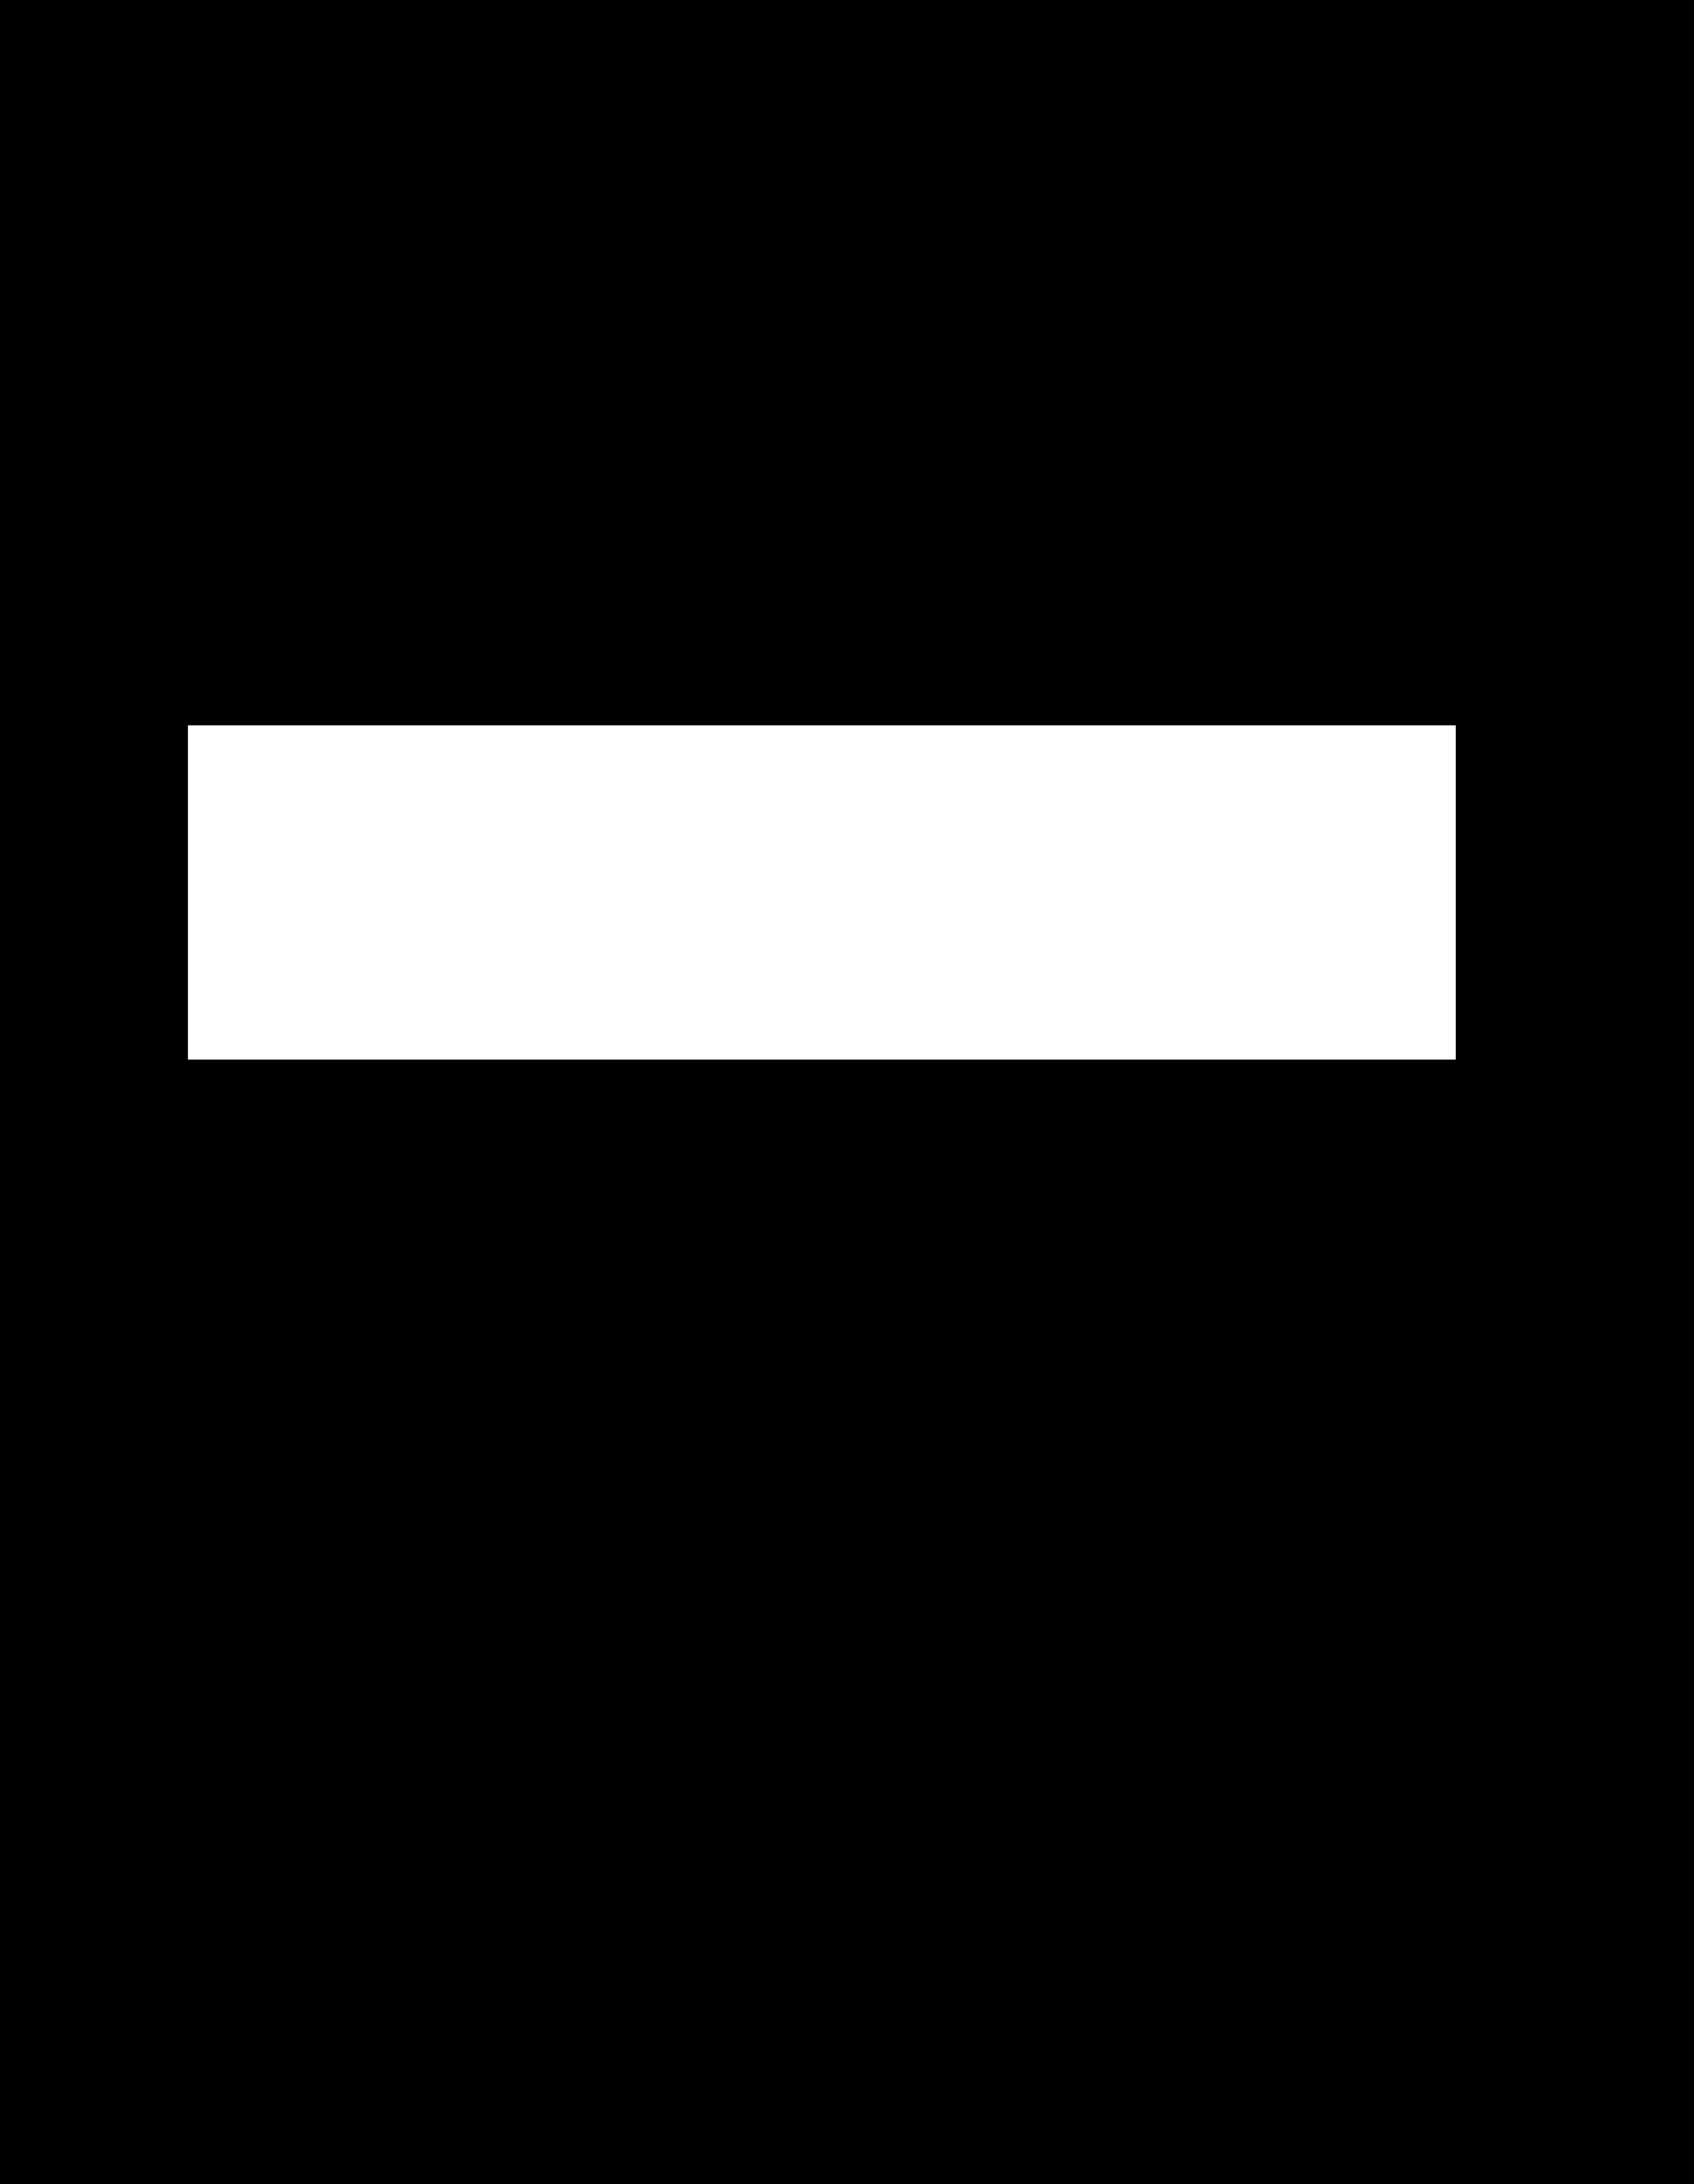table: (188, 725, 1455, 1058)
